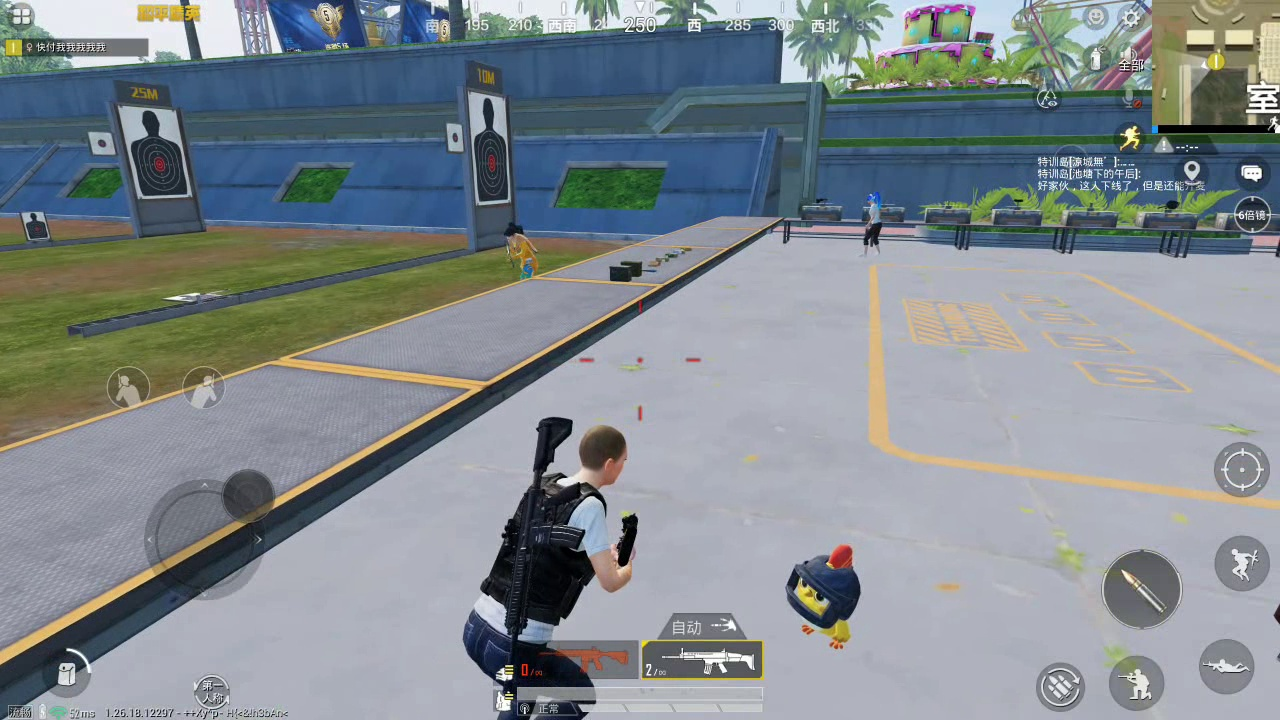enemy: (500, 224, 538, 281), (860, 187, 883, 257)
